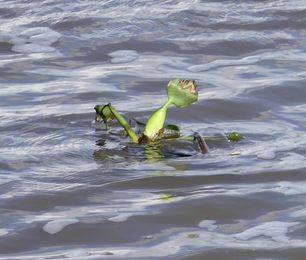water_hyacinth: (75, 71, 244, 159)
